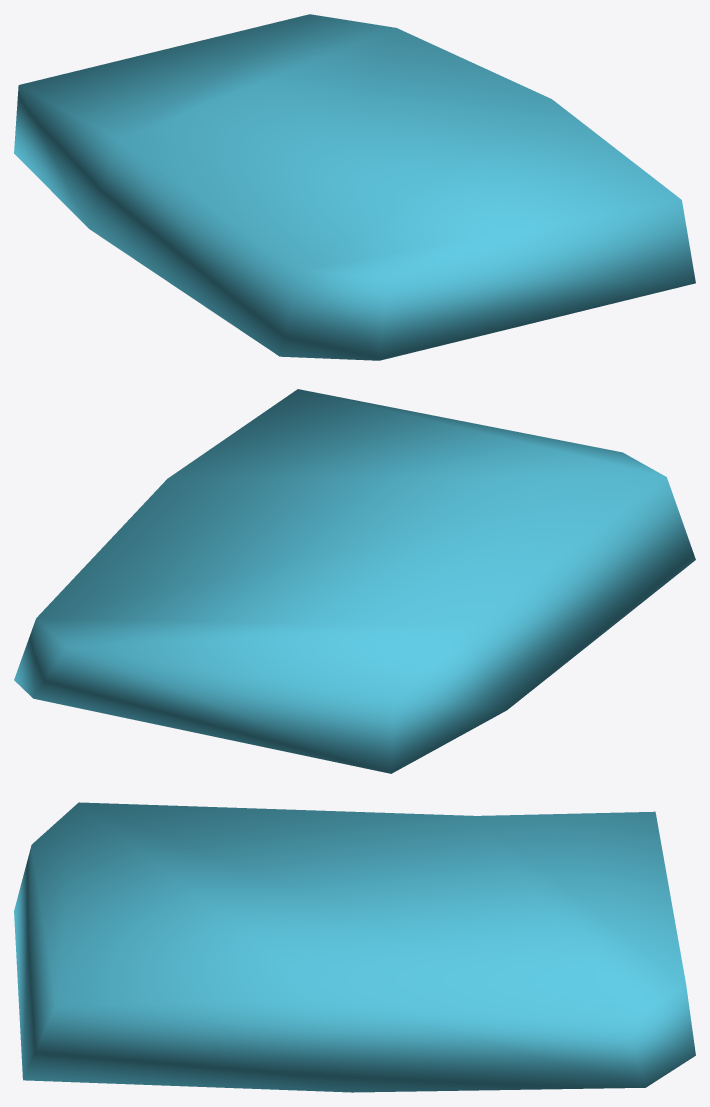
Rendered from brick_14.FBX.
3 views of the same model, one above another, from view 1: azimuth 30°, elevation 25°; view 2: azimuth 150°, elevation 25°; view 3: azimuth 270°, elevation 25° (orthographic). The views are drawn at different scales.
Visible parts, largest first — view 1: brick_14; view 2: brick_14; view 3: brick_14.
Part boxes in pixels (box(x1,y1,x2,y2)): brick_14: box(14, 14, 695, 360); brick_14: box(14, 389, 695, 773); brick_14: box(14, 802, 695, 1092).
Size of the model in its own units: 18.56 by 3.94 by 25.34.
